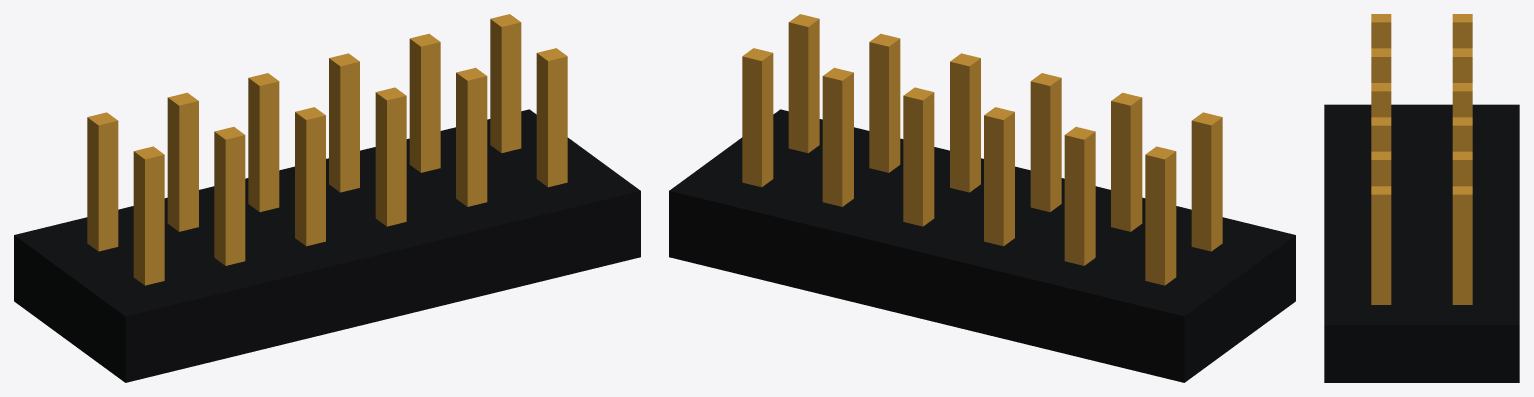
Rendered from L131_SPI_TPM.obj.
3 renders of one model, left to right at view 1: azimuth 30°, elevation 25°; view 2: azimuth 150°, elevation 25°; view 3: azimuth 270°, elevation 25°, orthographic. The views are drawn at different scales.
Visible parts, largest first — view 1: SPI_TPM_Black, SPI_TPM_Gold; view 2: SPI_TPM_Black, SPI_TPM_Gold; view 3: SPI_TPM_Black, SPI_TPM_Gold.
Boxes of the visible parts, x1,y1,x2,y2 form: SPI_TPM_Black: [14, 109, 640, 382]; SPI_TPM_Gold: [87, 14, 567, 285]; SPI_TPM_Black: [669, 109, 1295, 382]; SPI_TPM_Gold: [742, 14, 1222, 285]; SPI_TPM_Black: [1324, 104, 1519, 382]; SPI_TPM_Gold: [1371, 14, 1472, 304].
Bounding box in the file's own units: 0.0162 × 0.0058 × 0.00608.
